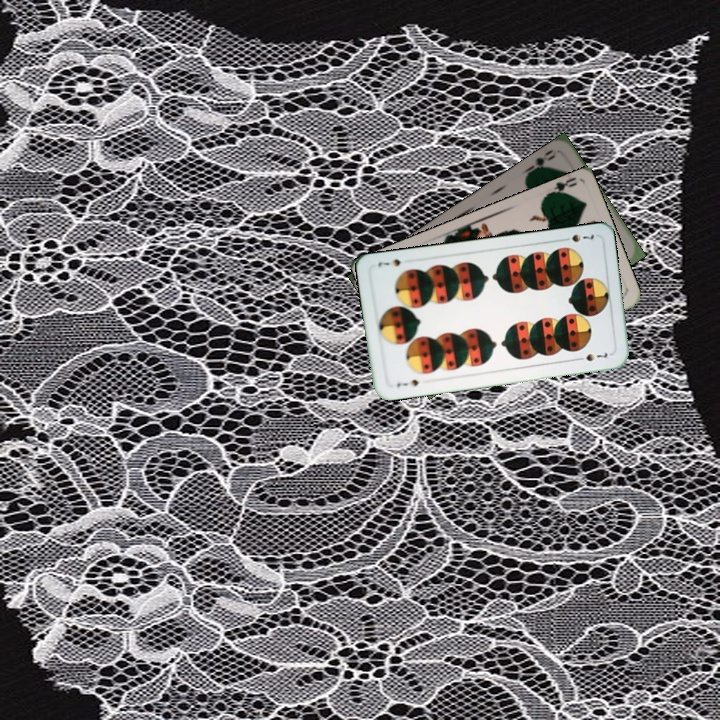GO: (521, 145, 559, 178), (541, 175, 580, 199)
S7: (557, 230, 597, 245), (393, 375, 421, 390)
